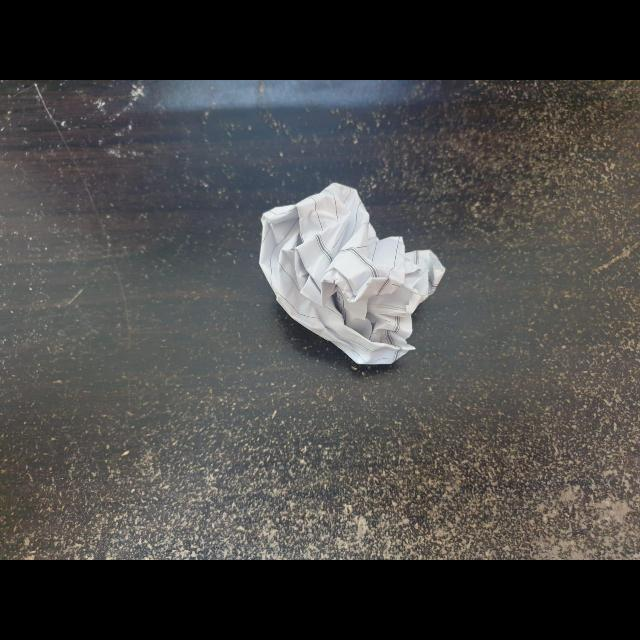scrap_paper: (254, 177, 446, 377)
